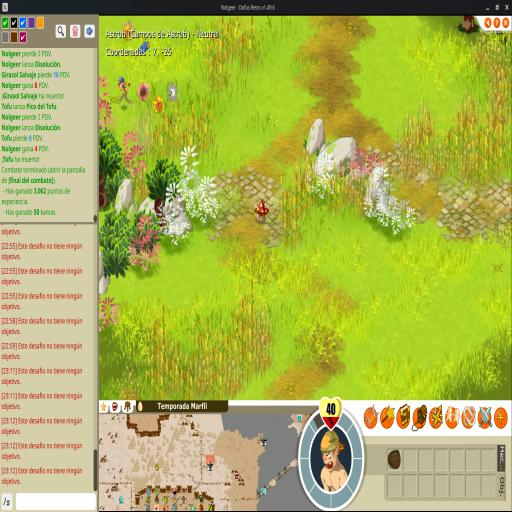Enemigos: (254, 198, 269, 222), (122, 20, 136, 42), (137, 81, 150, 103), (166, 80, 179, 102), (152, 94, 164, 114), (138, 41, 150, 59), (165, 112, 177, 128)
Personaje: (117, 76, 132, 107)
